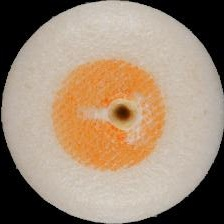0078-0510: (0, 0, 224, 224)
